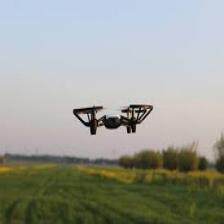drone: (73, 104, 154, 134)
